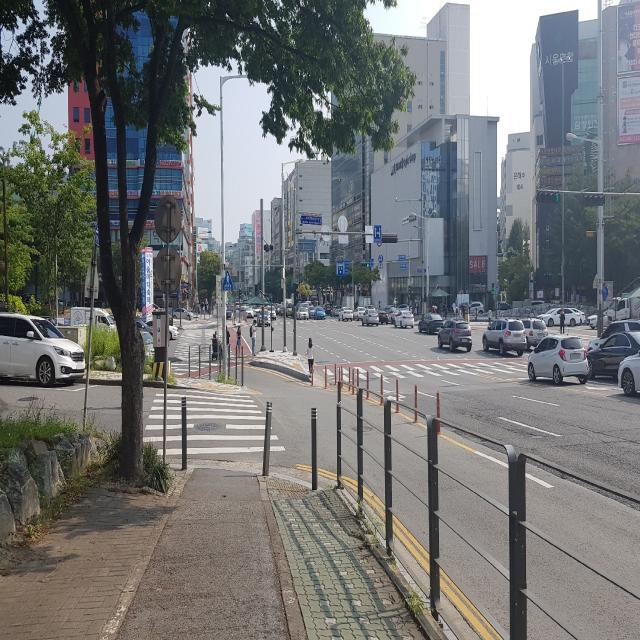횡단보도: (143, 389, 286, 456), (331, 357, 528, 383), (179, 324, 233, 355)
